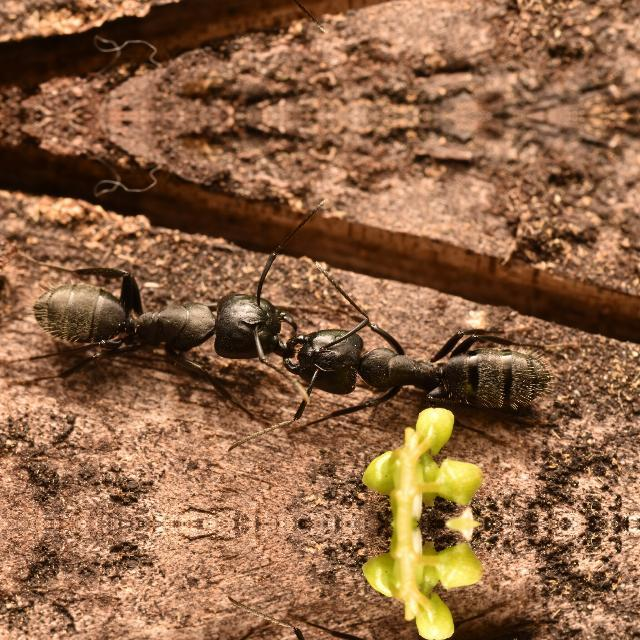Camponotus: (4, 248, 326, 396), (252, 294, 580, 436), (252, 610, 578, 640)
